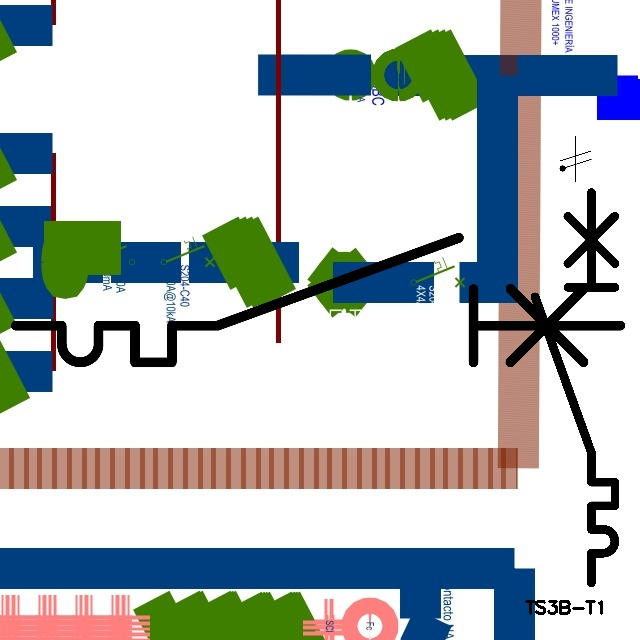interruptor_termomagnetico: (0, 222, 636, 378), (525, 182, 625, 593)
